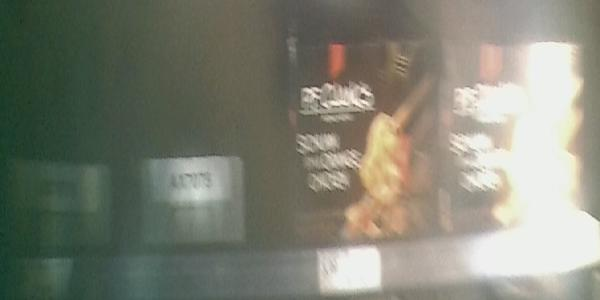pizza1: (282, 38, 442, 238), (444, 36, 590, 238)
